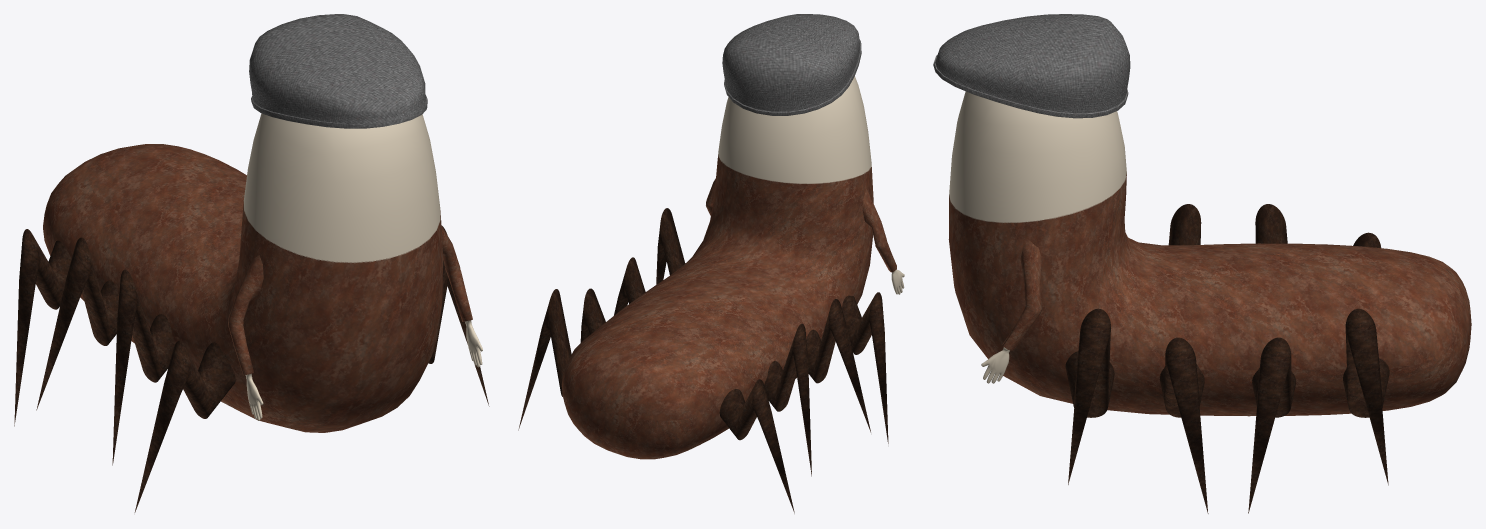
Rendered from abuelo_andar 1.fbx.
The picture shows the model from 3 angles, left to right: view 1: azimuth 30°, elevation 25°; view 2: azimuth 150°, elevation 25°; view 3: azimuth 270°, elevation 25°; orthographic projection. The views are drawn at different scales.
Visible parts, largest first — view 1: cuerpo, piernas.001, boina, brazos; view 2: cuerpo, piernas.001, boina, brazos; view 3: cuerpo, piernas.001, boina, brazos.
Boxes of the visible parts, bbox=[...] form: cuerpo: bbox=[43, 113, 442, 432]; piernas.001: bbox=[14, 225, 489, 512]; boina: bbox=[249, 14, 427, 128]; brazos: bbox=[228, 226, 482, 420]; cuerpo: bbox=[561, 76, 873, 459]; piernas.001: bbox=[518, 208, 888, 513]; boina: bbox=[722, 14, 861, 115]; brazos: bbox=[706, 178, 904, 294]; cuerpo: bbox=[948, 91, 1471, 416]; piernas.001: bbox=[1065, 204, 1389, 513]; boina: bbox=[933, 14, 1130, 118]; brazos: bbox=[981, 240, 1042, 383].
Size of the model in its own units: 60.83 by 82.41 by 94.07.
Materials: 1 (1 with a texture image).
